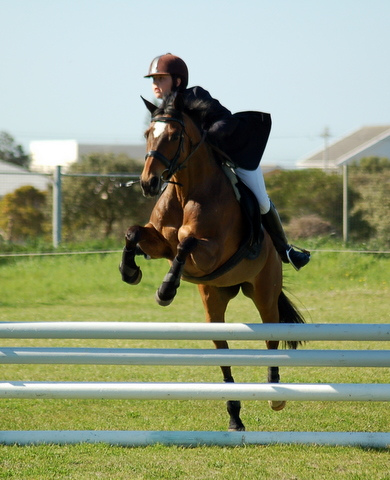person: (144, 53, 312, 270)
